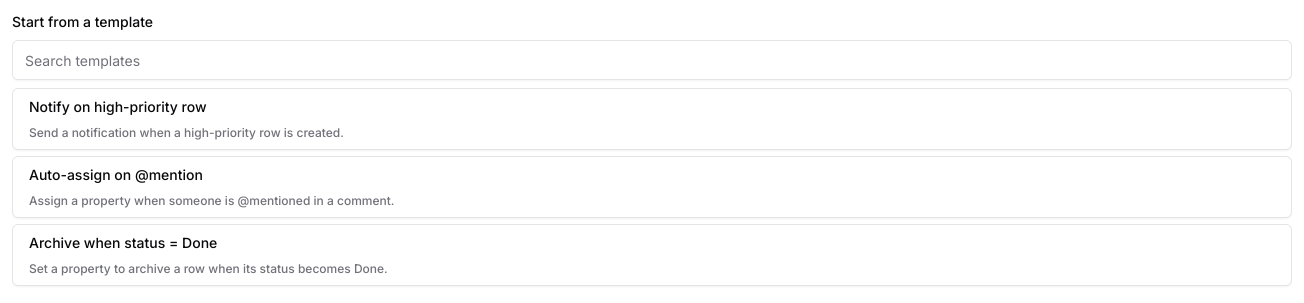
Test: filters by name
Type "archive" into the field labelled "Search templates" at (652, 60), box [12, 40, 1292, 80]
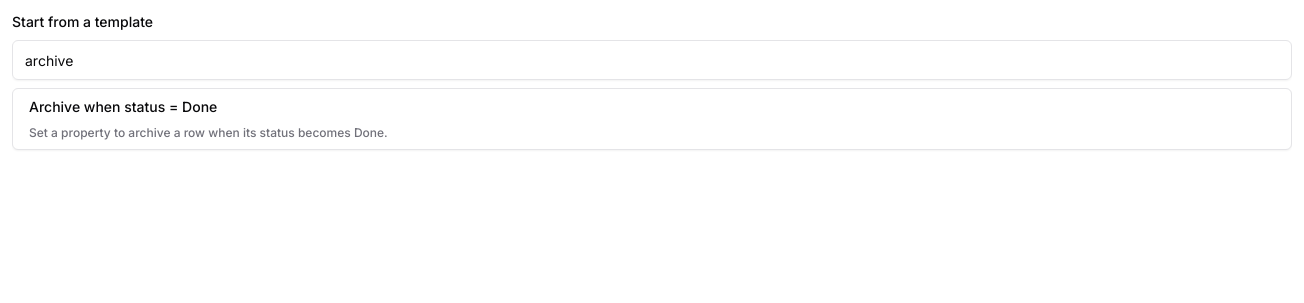
expect the text "Archive when status = Done" is shown: met, box [29, 97, 217, 117]
expect the button "Notify on high-priority row" is gone: met
